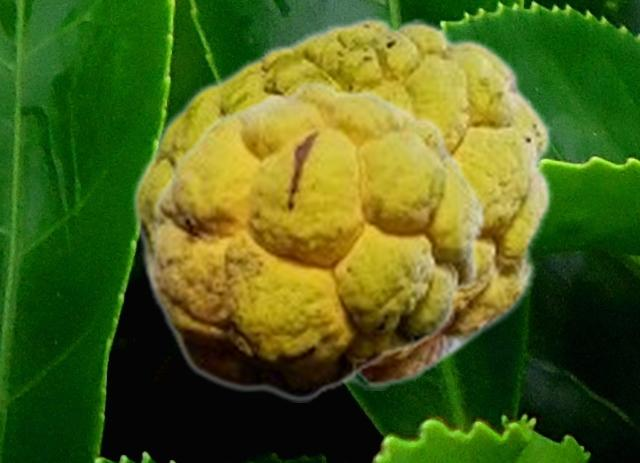atis: (130, 16, 552, 389), (146, 79, 485, 401)
